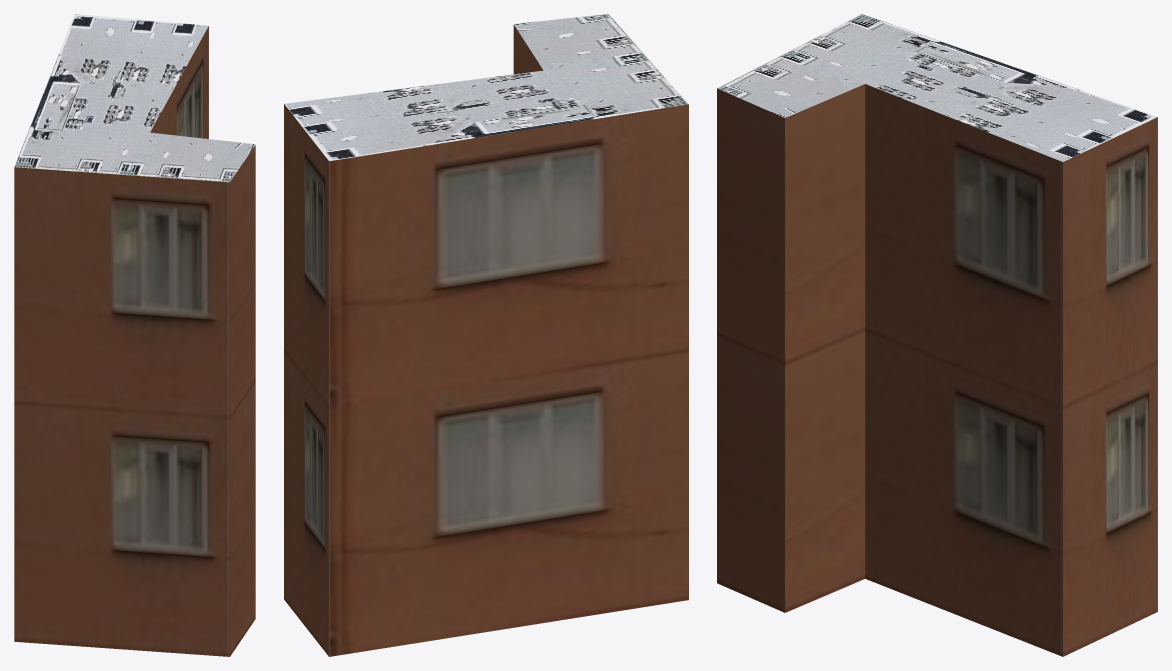
File: ResTex__2141.fbx
3 renders of one model, left to right at view 1: azimuth 30°, elevation 25°; view 2: azimuth 150°, elevation 25°; view 3: azimuth 270°, elevation 25°, orthographic. The views are drawn at different scales.
Visible parts, largest first — view 1: CityEngineMaterial_20_m, CityEngineMaterial_4_m; view 2: CityEngineMaterial_20_m, CityEngineMaterial_4_m; view 3: CityEngineMaterial_20_m, CityEngineMaterial_4_m.
Boxes of the visible parts, left/top/right/bottom form: CityEngineMaterial_20_m: left=14, top=26, right=255, bottom=656; CityEngineMaterial_4_m: left=14, top=14, right=255, bottom=182; CityEngineMaterial_20_m: left=284, top=25, right=688, bottom=656; CityEngineMaterial_4_m: left=284, top=14, right=688, bottom=161; CityEngineMaterial_20_m: left=717, top=84, right=1157, bottom=656; CityEngineMaterial_4_m: left=717, top=14, right=1157, bottom=161.
Size of the model in its own units: 3.85 by 6 by 4.84.
Materials: 2 (2 with a texture image).
